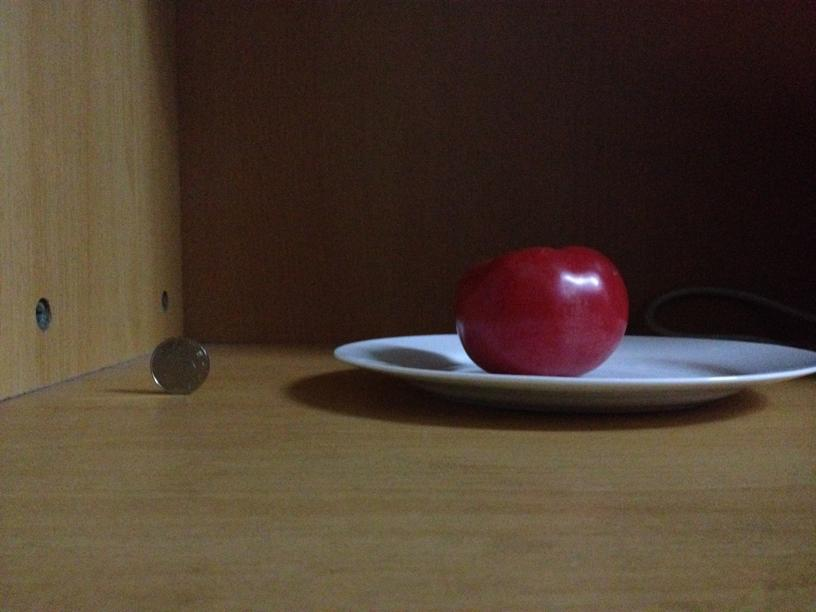coin: (149, 340, 210, 395)
tomato: (450, 240, 628, 373)
